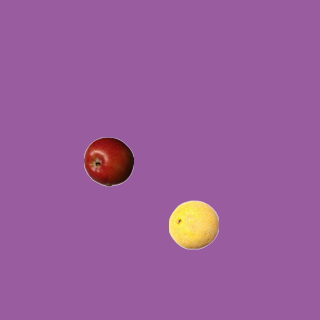Apple Braeburn: (83, 136, 133, 186)
Cantaloupe 1: (168, 199, 218, 249)
